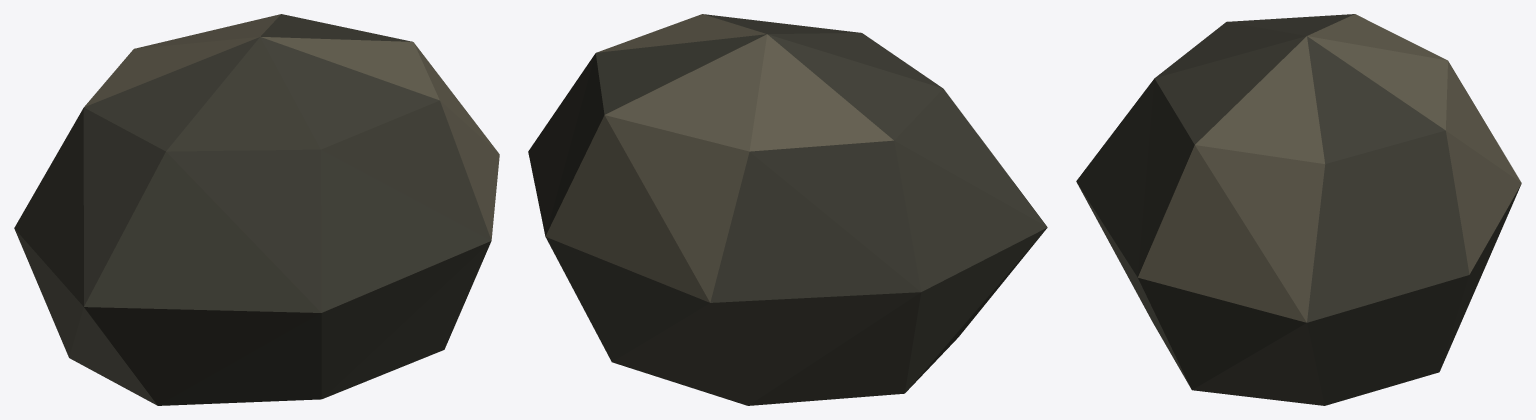
File: Rock_Pebble_01.fbx
The picture shows the model from 3 angles, left to right: view 1: azimuth 30°, elevation 25°; view 2: azimuth 150°, elevation 25°; view 3: azimuth 270°, elevation 25°; orthographic projection. The views are drawn at different scales.
Parts seen in each view (by area): view 1: Rock_Pebble_01_Mesh; view 2: Rock_Pebble_01_Mesh; view 3: Rock_Pebble_01_Mesh.
Part boxes in pixels (x1,y1,x2,y2): Rock_Pebble_01_Mesh: [14, 14, 499, 405]; Rock_Pebble_01_Mesh: [528, 14, 1047, 405]; Rock_Pebble_01_Mesh: [1076, 14, 1521, 405].
Bounding box in the file's own units: 0.2672 × 0.192 × 0.225.
Materials: 1 (1 with a texture image).
